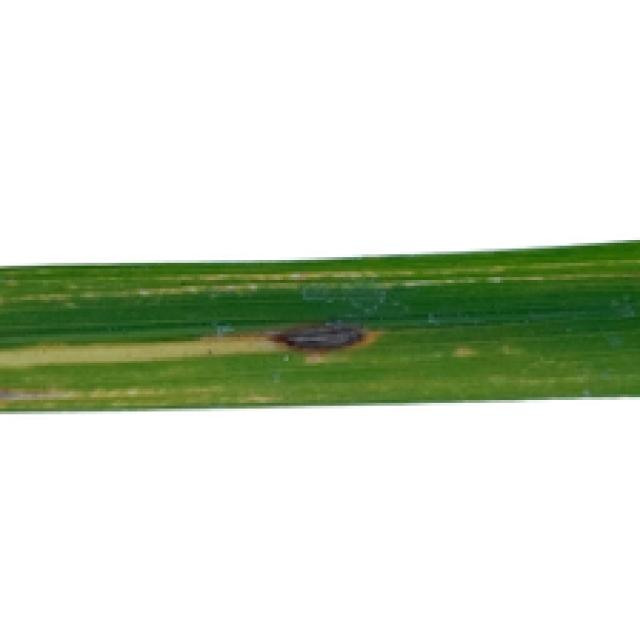Rice___Bacterial_Leaf_Blight: (0, 234, 637, 418)
